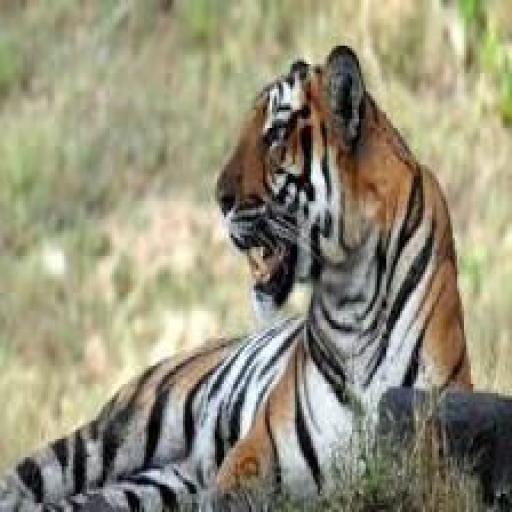Tiger: (0, 46, 469, 511)
